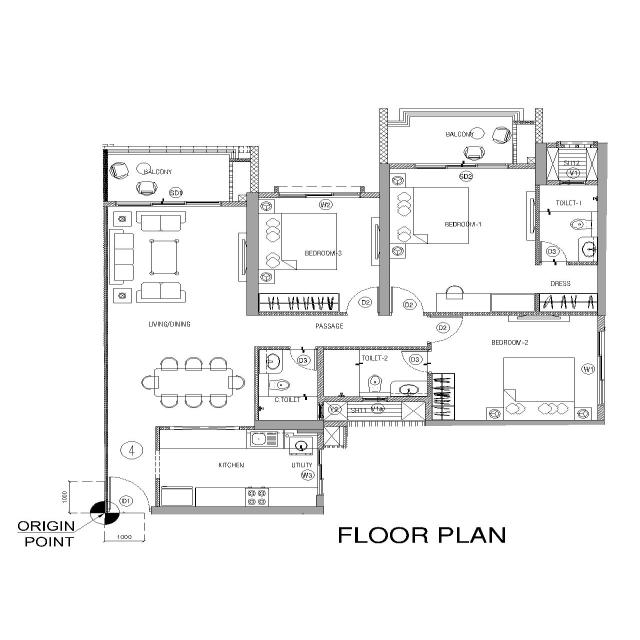Column: (378, 163, 391, 316), (596, 142, 606, 317), (246, 192, 260, 316), (149, 506, 325, 515), (424, 419, 606, 426), (253, 419, 325, 431), (534, 142, 548, 186), (315, 494, 325, 508)
Door: (106, 506, 152, 514), (344, 311, 380, 316), (539, 261, 569, 266), (427, 315, 432, 344), (389, 312, 425, 316), (287, 346, 319, 350), (427, 349, 432, 374)
Sliding Door: (116, 200, 222, 208), (413, 162, 509, 170), (277, 192, 361, 199)
Ventilator: (361, 396, 389, 402), (559, 180, 586, 186), (317, 402, 325, 421)
Window: (596, 330, 606, 406), (317, 448, 325, 496)
